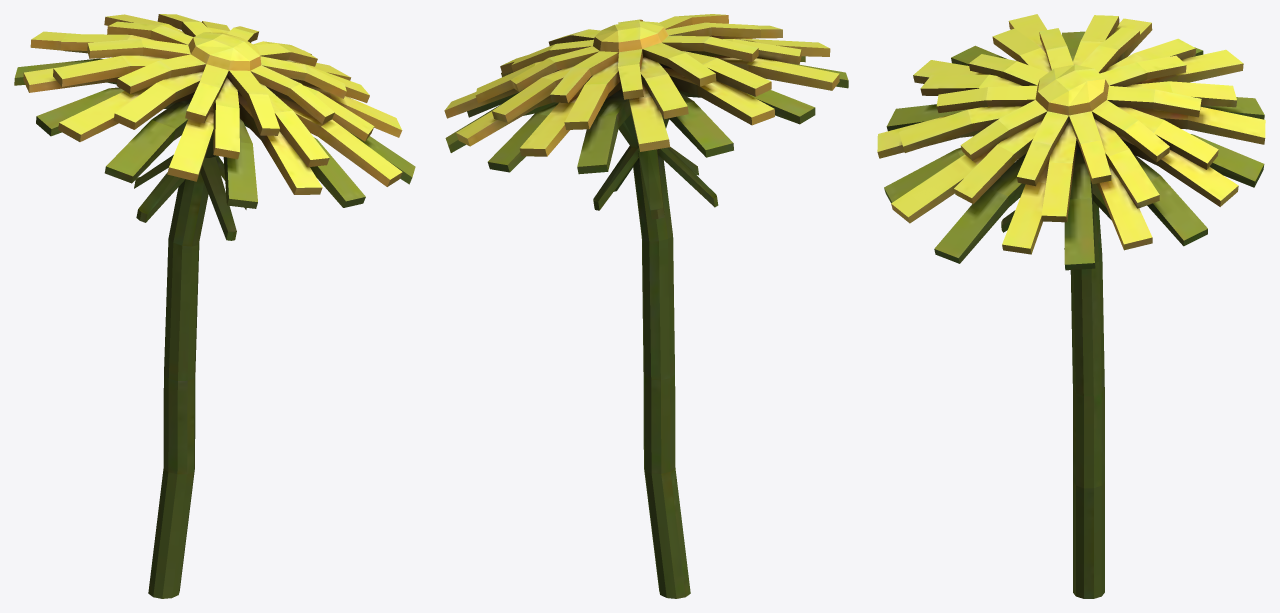
The model's file is dandelion.glb.
The picture shows the model from 3 angles, left to right: view 1: azimuth 30°, elevation 25°; view 2: azimuth 150°, elevation 25°; view 3: azimuth 270°, elevation 25°; orthographic projection.
Parts seen in each view (by area): view 1: Dandelion; view 2: Dandelion; view 3: Dandelion.
Part boxes in pixels (left/top/right/bottom): Dandelion: left=14, top=14, right=415, bottom=598; Dandelion: left=444, top=14, right=848, bottom=598; Dandelion: left=877, top=14, right=1265, bottom=598.
Size of the model in its own units: 1.26 by 1.96 by 1.27.
1 material, 1 textured.
